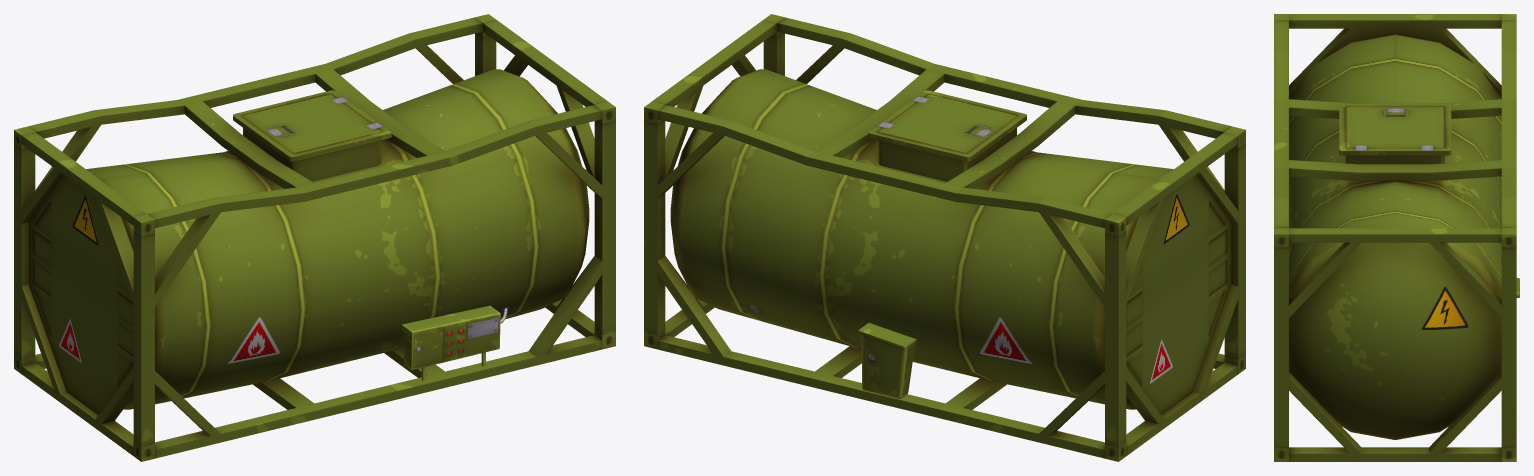
File: FuelTank01.FBX
3 views of the same model, side by side, from view 1: azimuth 30°, elevation 25°; view 2: azimuth 150°, elevation 25°; view 3: azimuth 270°, elevation 25° (orthographic). The views are drawn at different scales.
Parts seen in each view (by area): view 1: FuelTank01; view 2: FuelTank01; view 3: FuelTank01.
Boxes of the visible parts, x1,y1,x2,y2 form: FuelTank01: (14,14,615,461); FuelTank01: (644,14,1245,461); FuelTank01: (1274,14,1519,461).
Size of what is drawn, in the model's own units: 5.69 by 2.66 by 2.61.
